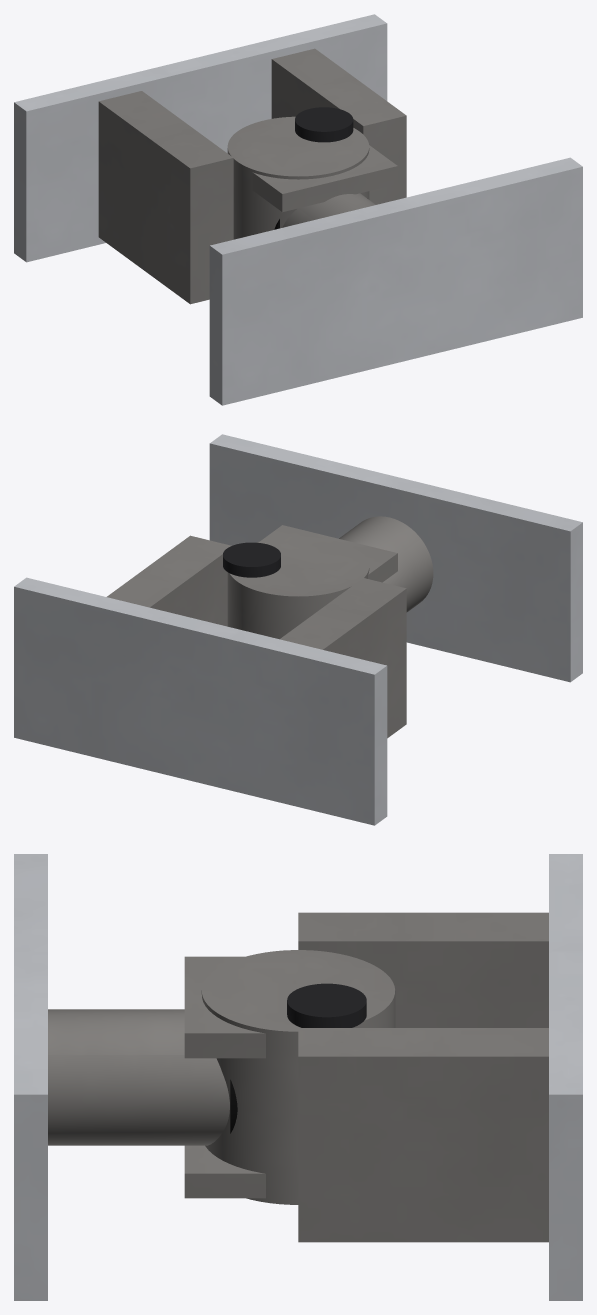
Rendered from rover15_articulated_joint_s.glb.
3 renders of one model, top to bottom at view 1: azimuth 30°, elevation 25°; view 2: azimuth 150°, elevation 25°; view 3: azimuth 270°, elevation 25°, orthographic. The views are drawn at different scales.
Visible parts, largest first — view 1: half_b_flange, yoke_rear, flange_rear, yaw_bearing, half_b_clevis, yaw_drive, half_b_roll; view 2: flange_rear, half_b_flange, yoke_rear, yaw_bearing, half_b_roll, yaw_drive, half_b_clevis; view 3: yoke_rear, half_b_roll, yaw_bearing, flange_rear, half_b_flange, half_b_clevis, yaw_drive.
Part boxes in pixels (bbox=[...]): half_b_flange: bbox=[209, 157, 582, 405]; yoke_rear: bbox=[98, 48, 406, 304]; flange_rear: bbox=[14, 14, 387, 262]; yaw_bearing: bbox=[227, 116, 369, 239]; half_b_clevis: bbox=[252, 145, 397, 212]; yaw_drive: bbox=[295, 107, 353, 142]; half_b_roll: bbox=[282, 193, 375, 227]; flange_rear: bbox=[14, 577, 387, 825]; half_b_flange: bbox=[209, 434, 582, 682]; yoke_rear: bbox=[107, 535, 406, 738]; yaw_bearing: bbox=[227, 536, 369, 639]; half_b_roll: bbox=[339, 516, 433, 612]; yaw_drive: bbox=[223, 542, 280, 577]; half_b_clevis: bbox=[260, 525, 397, 582]; yoke_rear: bbox=[298, 912, 548, 1242]; half_b_roll: bbox=[48, 1009, 229, 1145]; yaw_bearing: bbox=[201, 950, 395, 1204]; flange_rear: bbox=[549, 854, 582, 1300]; half_b_flange: bbox=[14, 854, 47, 1300]; half_b_clevis: bbox=[184, 956, 265, 1198]; yaw_drive: bbox=[287, 983, 366, 1027].
Size of the model in its own units: 0.5 by 0.2 by 0.5.
Materials: 4 (2 with a texture image).
